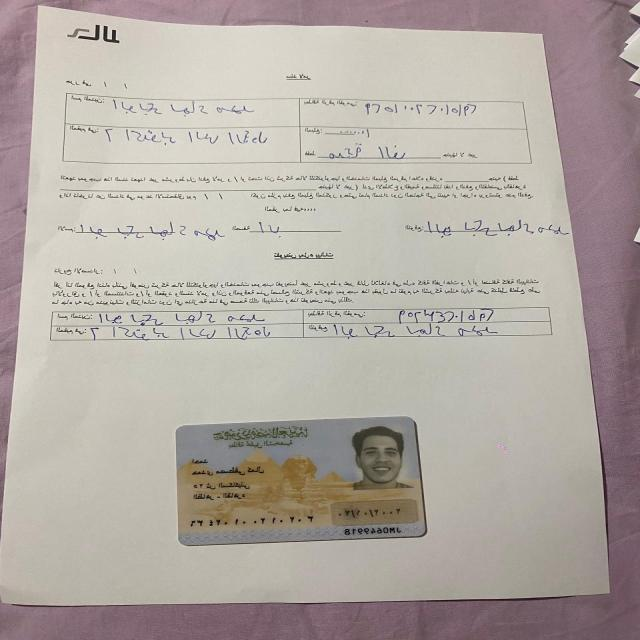id_card: (164, 411, 439, 552)
